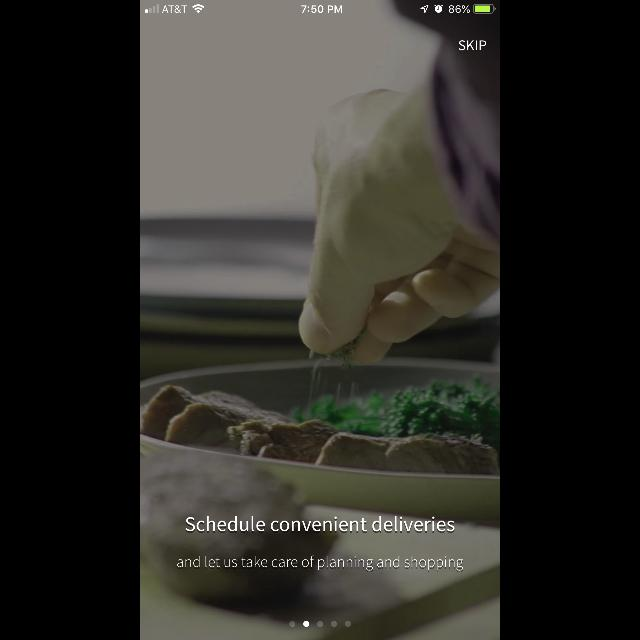backgroundimage: (140, 15, 500, 640)
pageindicator: (289, 621, 351, 627)
text: (177, 556, 463, 572), (186, 516, 454, 532), (458, 41, 486, 51)
uppertaskbar: (140, 0, 500, 14)
